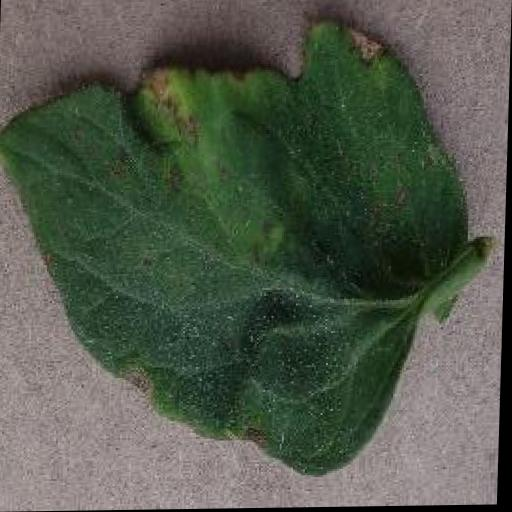Bacterial Spot: (0, 14, 474, 488)
